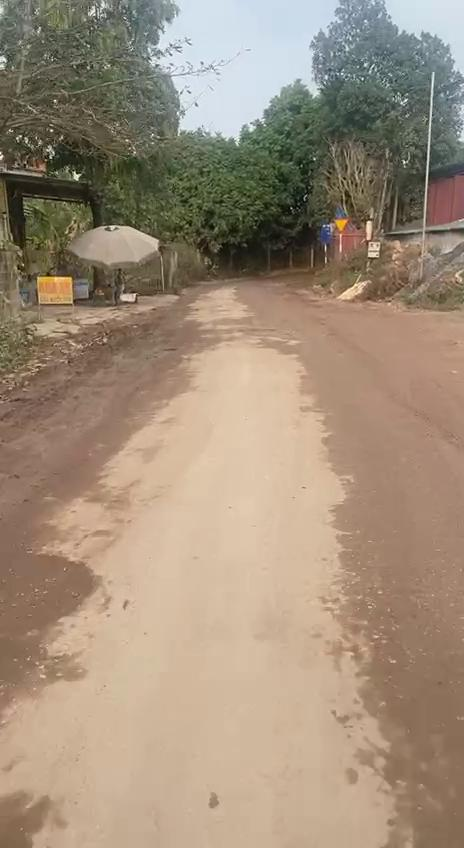pothole: (0, 550, 104, 632)
